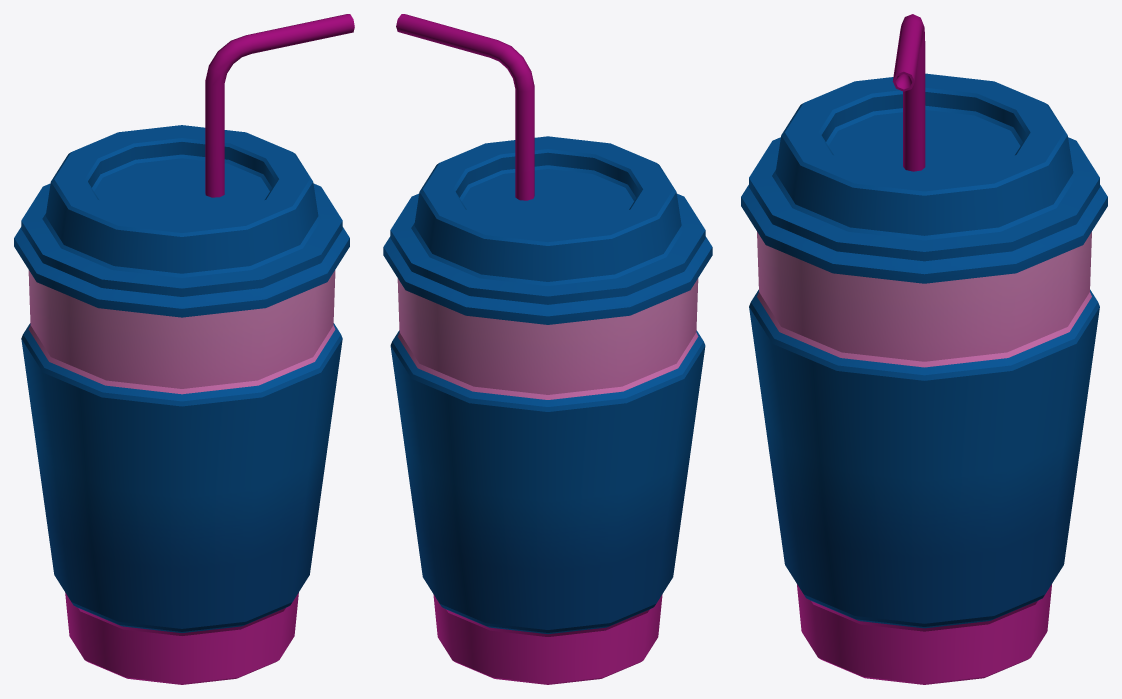
File: Cup_02.fbx
The picture shows the model from 3 angles, left to right: view 1: azimuth 30°, elevation 25°; view 2: azimuth 150°, elevation 25°; view 3: azimuth 270°, elevation 25°; orthographic projection. The views are drawn at different scales.
Parts seen in each view (by area): view 1: Cup_02, Rhsirf_02, Straw_02; view 2: Cup_02, Rhsirf_02, Straw_02; view 3: Cup_02, Rhsirf_02, Straw_02.
Boxes of the visible parts, x1,y1,x2,y2 form: Cup_02: [21, 270, 342, 684]; Rhsirf_02: [14, 125, 349, 317]; Straw_02: [205, 14, 354, 197]; Cup_02: [390, 278, 705, 684]; Rhsirf_02: [383, 136, 712, 324]; Straw_02: [396, 14, 534, 200]; Cup_02: [749, 232, 1099, 684]; Rhsirf_02: [741, 73, 1107, 283]; Straw_02: [892, 14, 925, 171].
Bounding box in the file's own units: 114 × 212 × 109.
